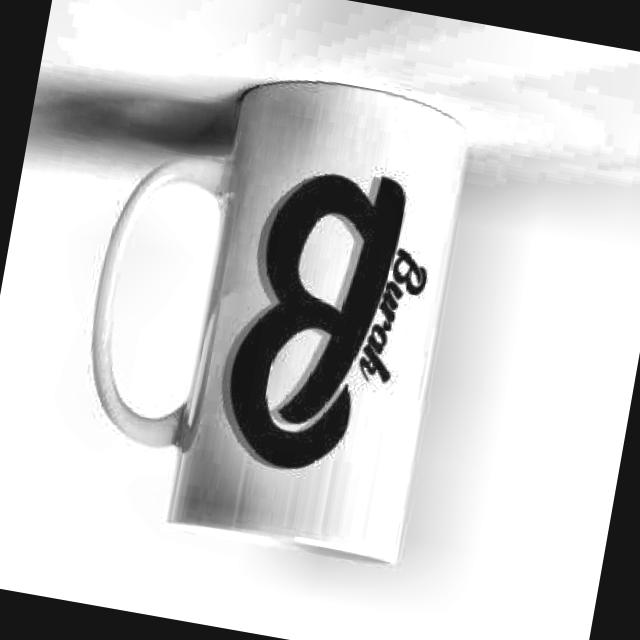Mug: (58, 46, 479, 568)
